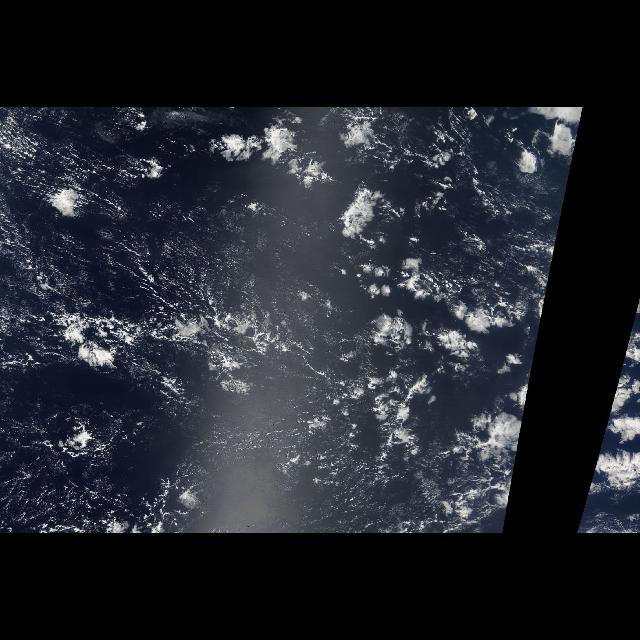Flower: (259, 109, 585, 447), (600, 307, 636, 447)
Gravel: (102, 185, 250, 449)
Sugar: (106, 186, 378, 534)
